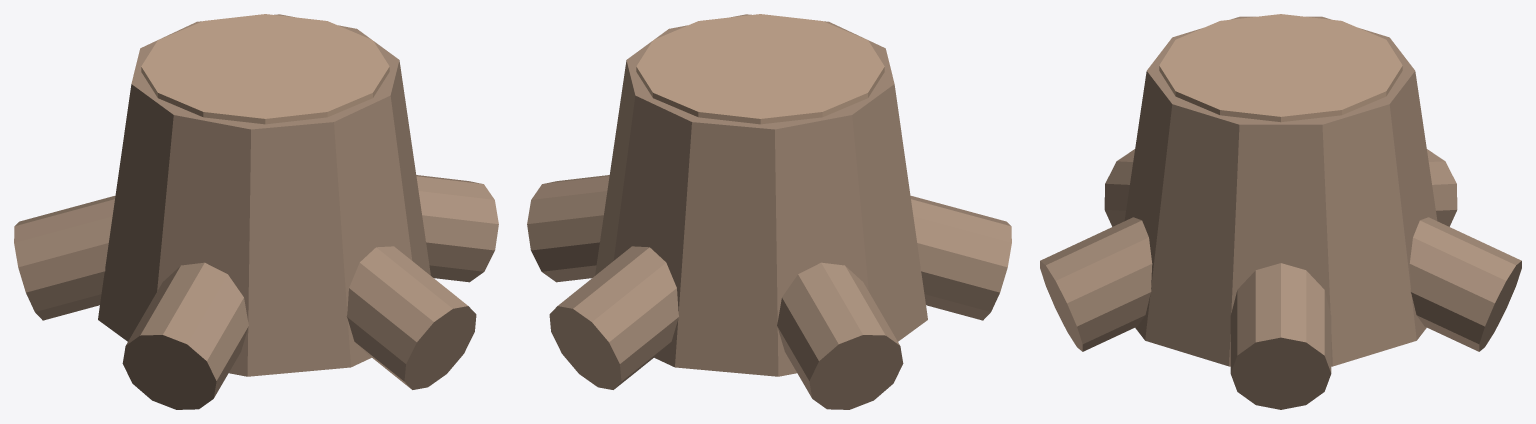
The model's file is stump.glb.
The picture shows the model from 3 angles, left to right: view 1: azimuth 30°, elevation 25°; view 2: azimuth 150°, elevation 25°; view 3: azimuth 270°, elevation 25°; orthographic projection. The views are drawn at different scales.
Visible parts, largest first — view 1: stump_000, stump_001, stump_005, stump_006, stump_004, stump_002; view 2: stump_000, stump_001, stump_004, stump_003, stump_005, stump_002; view 3: stump_000, stump_001, stump_002, stump_003, stump_006, stump_004, stump_005.
Part boxes in pixels (box(x1,y1,x2,y2)): stump_000: box(98, 14, 430, 376); stump_001: box(141, 14, 389, 124); stump_005: box(122, 262, 248, 409); stump_006: box(346, 246, 476, 389); stump_004: box(14, 195, 115, 320); stump_002: box(416, 175, 498, 282); stump_000: box(595, 14, 927, 376); stump_001: box(636, 14, 884, 124); stump_004: box(777, 262, 903, 409); stump_003: box(549, 246, 679, 389); stump_005: box(910, 195, 1011, 320); stump_002: box(527, 175, 609, 282); stump_000: box(1124, 16, 1437, 366); stump_001: box(1159, 14, 1402, 122); stump_002: box(1230, 263, 1331, 409); stump_003: box(1409, 217, 1521, 351); stump_006: box(1040, 217, 1152, 351); stump_004: box(1427, 149, 1457, 226); stump_005: box(1104, 149, 1134, 226).
Bounding box in the file's own units: 1.11 × 0.6674 × 1.15.
